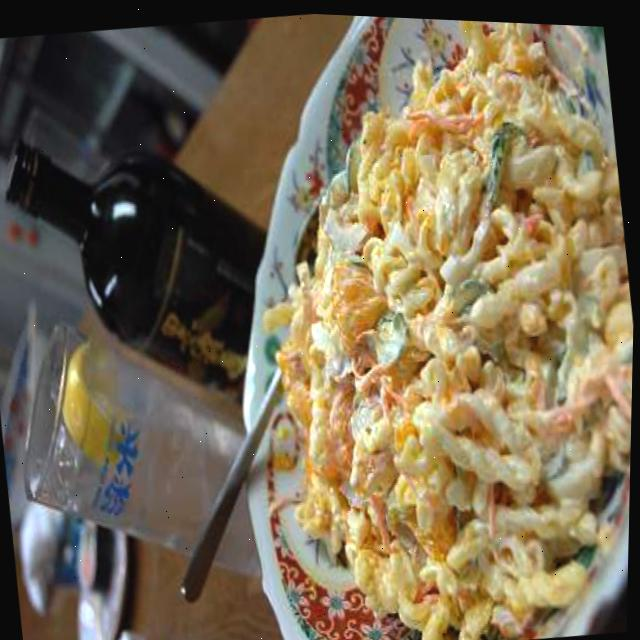蔬菜料理: (198, 7, 640, 640)
